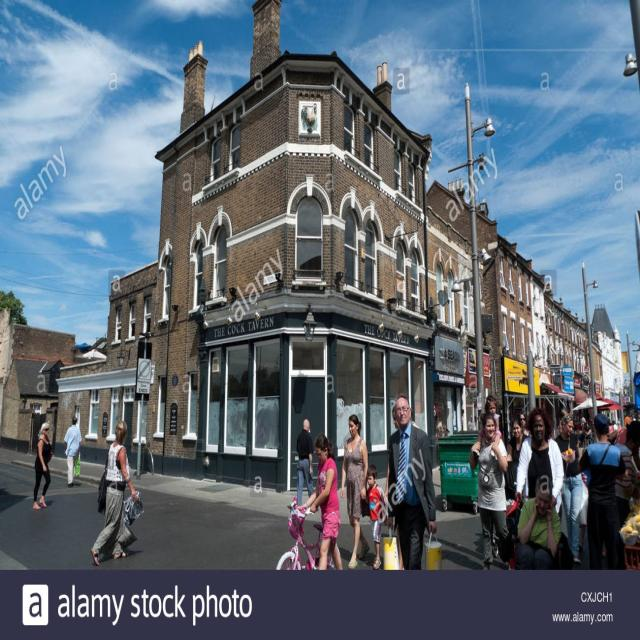body: (385, 397, 438, 570), (89, 417, 140, 567), (578, 414, 627, 570), (468, 410, 512, 572), (297, 432, 344, 572), (516, 407, 566, 529), (338, 409, 372, 572), (554, 408, 584, 563), (515, 474, 562, 571), (362, 462, 388, 570), (613, 425, 638, 528), (382, 464, 404, 570), (474, 394, 504, 461), (33, 421, 53, 510), (62, 413, 83, 490), (296, 418, 314, 507), (506, 416, 530, 463), (626, 407, 640, 483), (609, 412, 631, 431), (519, 410, 533, 437), (391, 401, 397, 429)
